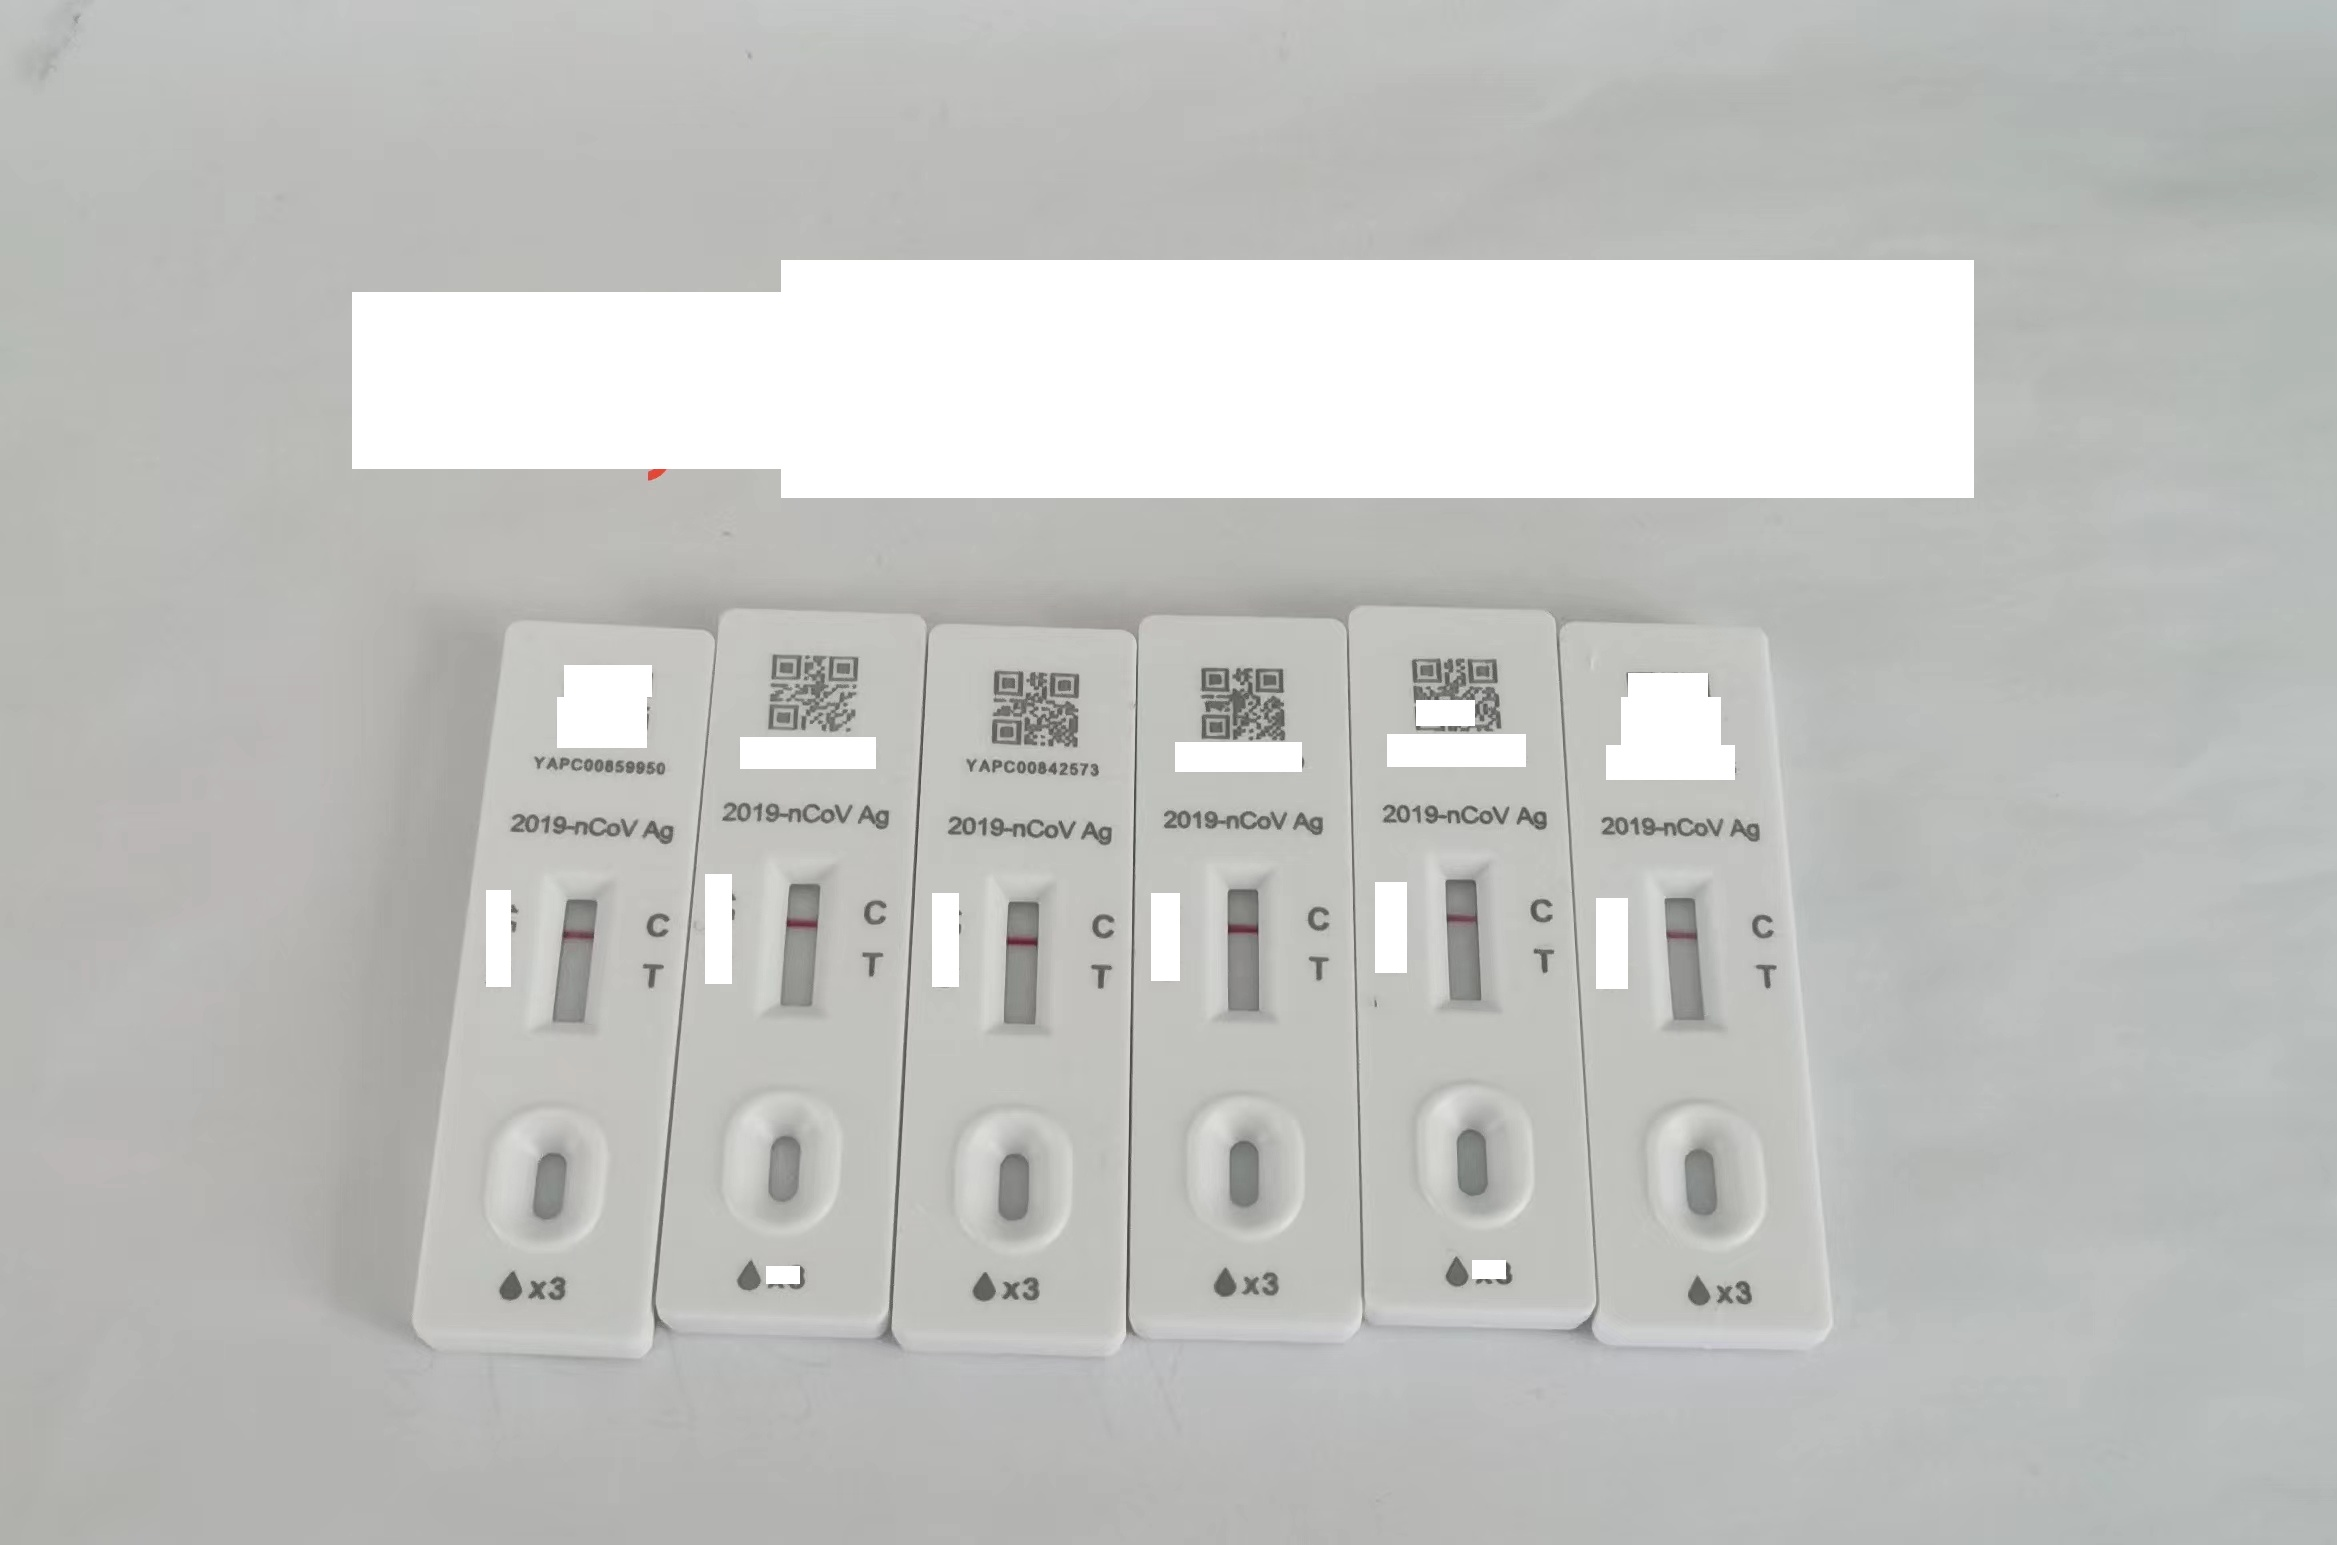negative: (538, 873, 612, 1041), (982, 874, 1055, 1038), (762, 862, 834, 1019), (1653, 867, 1720, 1035), (1212, 862, 1275, 1029), (1430, 857, 1498, 1016)
